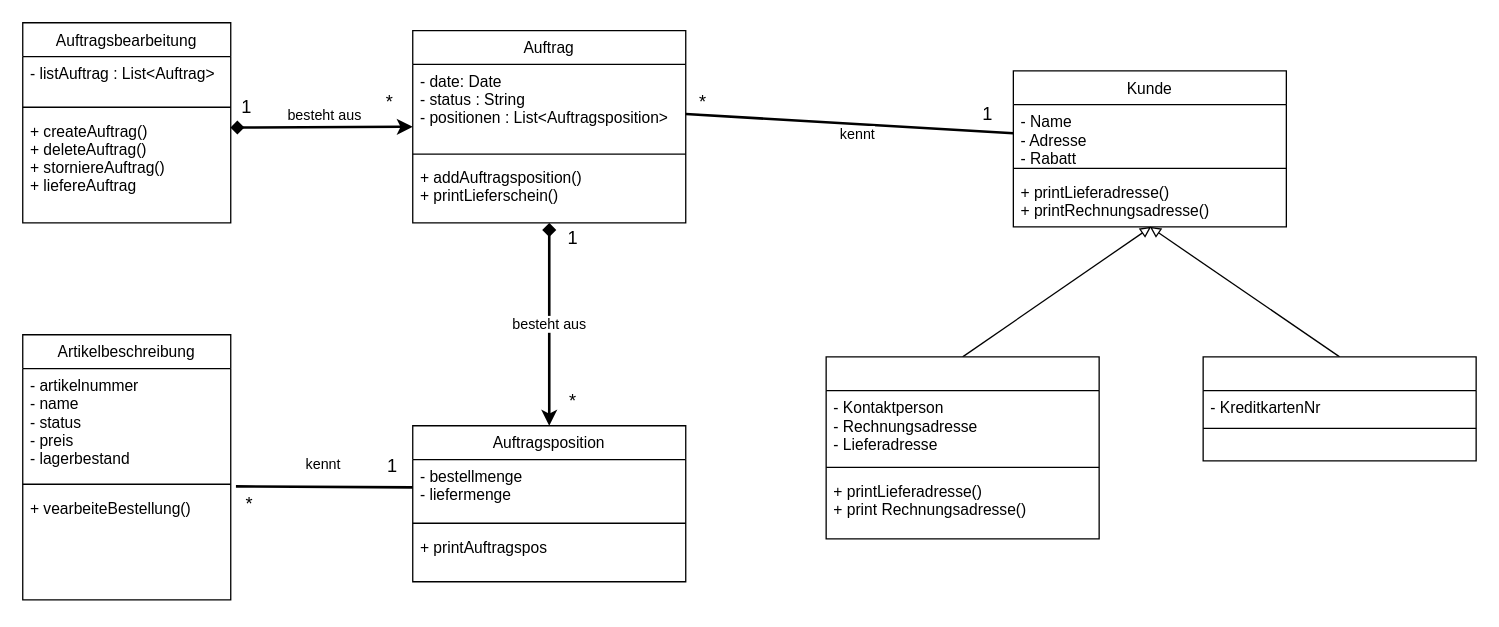
Image size: 1499x627. Some labels were removed from this diagram. The box of each missing label's shape, as (x1, y1, x2, y2) in pixels:
Geschäftskunde: (825, 356, 1099, 539)
Privatkunde: (1202, 356, 1476, 461)
